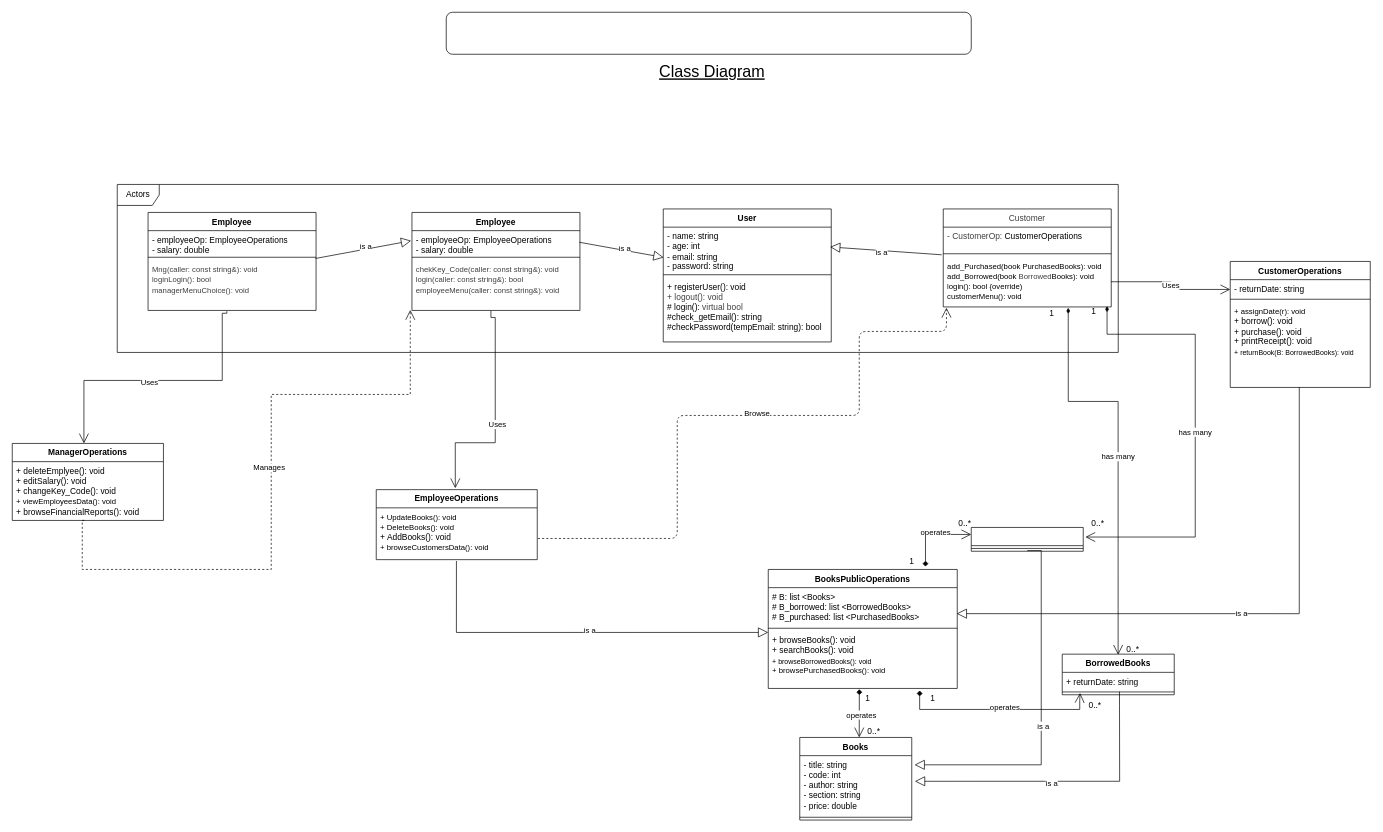
This 1383x832 diagram has some shape labels left out. The shapes that lost their labels are listed below. From the top down, each one's centre as x and y in pixels, then its label:
point (708, 33): Library and Bookstore Management System
point (1027, 539): PurchasedBooks
